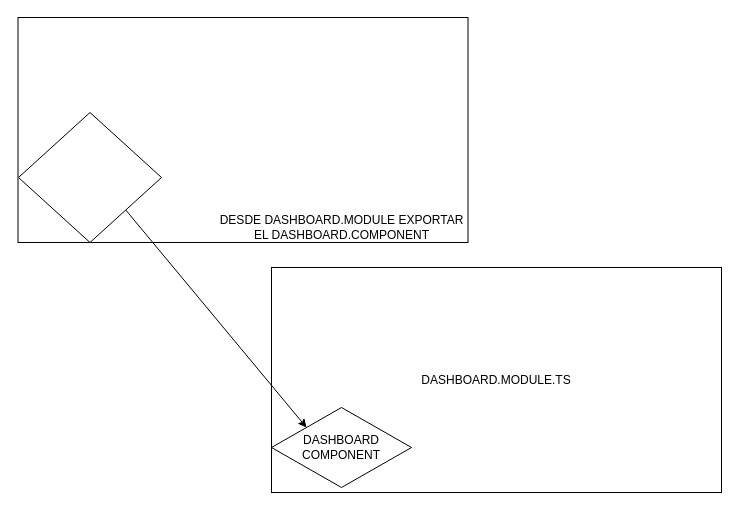
This 739x510 diagram has some shape labels left out. Here are the shapes that lost their labels. From the top down, the box of each, then its label:
(17, 16, 468, 242): APP.MODULE.TS
(18, 112, 162, 242): APP.COMPONENT
